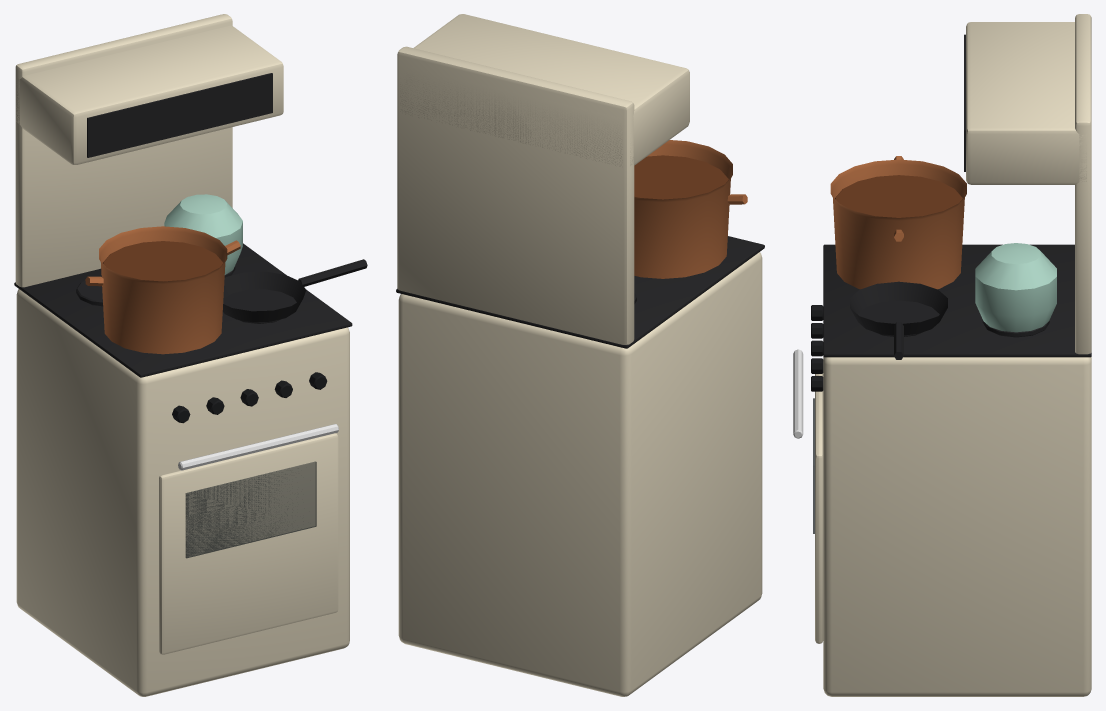
The model's file is mae_cooker.glb.
3 views of the same model, side by side, from view 1: azimuth 30°, elevation 25°; view 2: azimuth 150°, elevation 25°; view 3: azimuth 270°, elevation 25° (orthographic). The views are drawn at different scales.
Visible parts, largest first — view 1: mae_cooker; view 2: mae_cooker; view 3: mae_cooker.
Boxes of the visible parts, box(x1,y1,x2,y2) form: mae_cooker: box(14, 14, 367, 696); mae_cooker: box(396, 14, 764, 696); mae_cooker: box(793, 14, 1091, 696).
Bounding box in the file's own units: 0.8131 × 1.52 × 0.712.
